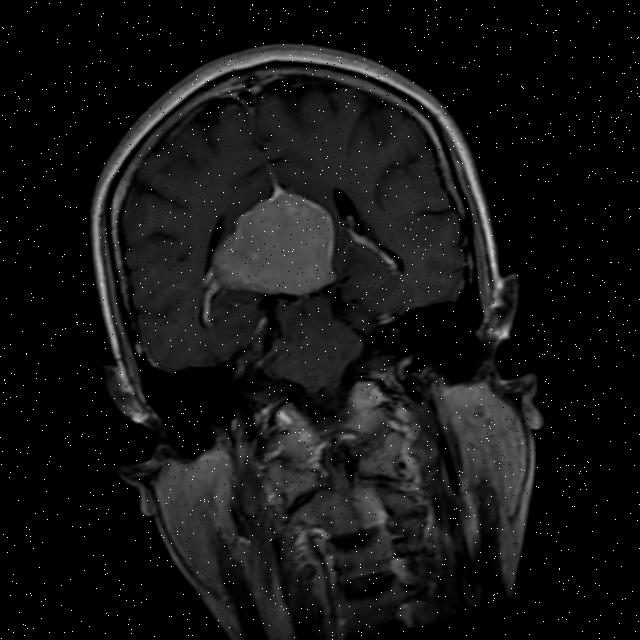Meningioma: (198, 179, 348, 313)
